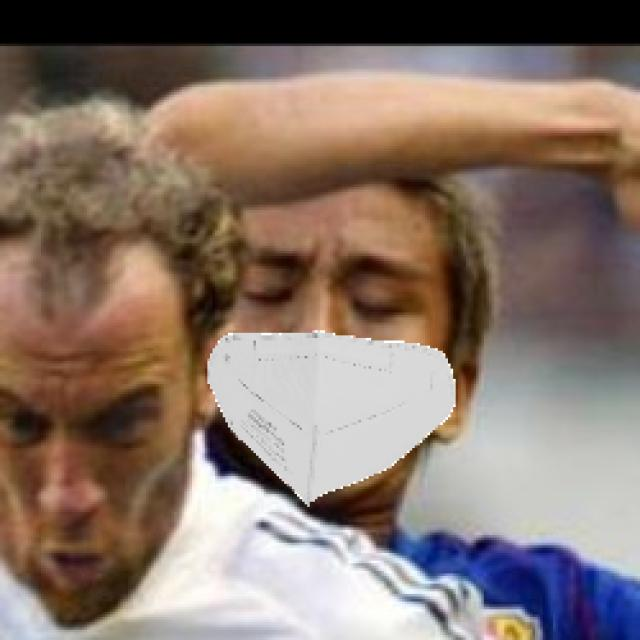mask: (201, 318, 474, 513)
